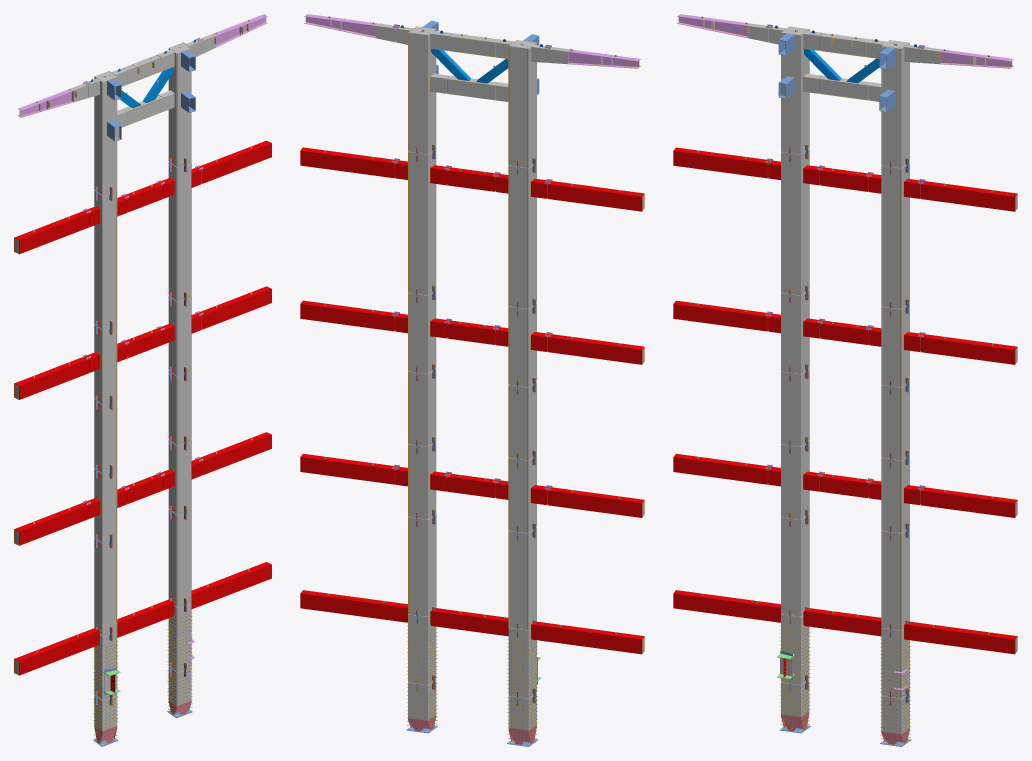
The picture shows the model from 3 angles, left to right: view 1: azimuth 30°, elevation 25°; view 2: azimuth 150°, elevation 25°; view 3: azimuth 330°, elevation 25°; orthographic projection. The views are drawn at different scales.
Parts seen in each view (by area): view 1: product-69e9df6d-0002-17a0-3137-373639333437-body, product-69e9df6d-0002-1a73-3137-373639333437-body, product-69e9df6d-0005-4c9b-3137-373639333437-body, product-69e9df6d-0005-4c47-3137-373639333437-body, product-69e9df6d-0005-1adb-3137-373639333437-body, product-69e9df6d-0005-13fb-3137-373639333437-body, product-69e9df6d-0005-1c04-3137-373639333437-body, product-69e9df6d-0005-13ff-3137-373639333437-body, product-69e9df6d-0005-1af1-3137-373639333437-body, product-69e9df6d-0005-1c1a-3137-373639333437-body, product-69e9df6d-0002-9127-3137-373639333437-body, product-69e9df6d-0002-1909-3137-373639333437-body (+31 smaller); view 2: product-69e9df6d-0002-17b4-3137-373639333437-body, product-69e9df6d-0002-1a87-3137-373639333437-body, product-69e9df6d-0002-181b-3137-373639333437-body, product-69e9df6d-0002-1ae3-3137-373639333437-body, product-69e9df6d-0005-4c9b-3137-373639333437-body, product-69e9df6d-0005-4c47-3137-373639333437-body, product-69e9df6d-0002-913b-3137-373639333437-body, product-69e9df6d-0005-1c04-3137-373639333437-body, product-69e9df6d-0005-13fb-3137-373639333437-body, product-69e9df6d-0005-1adb-3137-373639333437-body, product-69e9df6d-0005-13ff-3137-373639333437-body, product-69e9df6d-0002-191d-3137-373639333437-body (+30 smaller); view 3: product-69e9df6d-0002-1a73-3137-373639333437-body, product-69e9df6d-0002-17a0-3137-373639333437-body, product-69e9df6d-0005-4c47-3137-373639333437-body, product-69e9df6d-0005-4c9b-3137-373639333437-body, product-69e9df6d-0002-1909-3137-373639333437-body, product-69e9df6d-0002-1acf-3137-373639333437-body, product-69e9df6d-0005-1c1a-3137-373639333437-body, product-69e9df6d-0005-1af1-3137-373639333437-body, product-69e9df6d-0005-1c04-3137-373639333437-body, product-69e9df6d-0005-13fb-3137-373639333437-body, product-69e9df6d-0005-13ff-3137-373639333437-body, product-69e9df6d-0005-1adb-3137-373639333437-body (+30 smaller).
Boxes of the visible parts, x1,y1,x2,y2 form: product-69e9df6d-0002-17a0-3137-373639333437-body: (177,162,190,300); product-69e9df6d-0002-1a73-3137-373639333437-body: (103,190,116,329); product-69e9df6d-0005-4c9b-3137-373639333437-body: (14,628,99,675); product-69e9df6d-0005-4c47-3137-373639333437-body: (191,562,271,608); product-69e9df6d-0005-1adb-3137-373639333437-body: (14,211,88,254); product-69e9df6d-0005-13fb-3137-373639333437-body: (14,503,88,545); product-69e9df6d-0005-1c04-3137-373639333437-body: (14,357,88,399); product-69e9df6d-0005-13ff-3137-373639333437-body: (197,432,271,475); product-69e9df6d-0005-1af1-3137-373639333437-body: (197,140,271,183); product-69e9df6d-0005-1c1a-3137-373639333437-body: (197,286,271,329); product-69e9df6d-0002-9127-3137-373639333437-body: (177,509,190,606); product-69e9df6d-0002-1909-3137-373639333437-body: (103,538,116,635); product-69e9df6d-0002-17b4-3137-373639333437-body: (409,152,427,295); product-69e9df6d-0002-1a87-3137-373639333437-body: (509,165,527,308); product-69e9df6d-0002-181b-3137-373639333437-body: (408,32,427,154); product-69e9df6d-0002-1ae3-3137-373639333437-body: (509,46,527,167); product-69e9df6d-0005-4c9b-3137-373639333437-body: (531,621,644,654); product-69e9df6d-0005-4c47-3137-373639333437-body: (300,590,407,622); product-69e9df6d-0002-913b-3137-373639333437-body: (409,517,427,616); product-69e9df6d-0005-1c04-3137-373639333437-body: (547,334,644,364); product-69e9df6d-0005-13fb-3137-373639333437-body: (547,487,644,517); product-69e9df6d-0005-1adb-3137-373639333437-body: (547,181,644,211); product-69e9df6d-0005-13ff-3137-373639333437-body: (300,453,397,484); product-69e9df6d-0002-191d-3137-373639333437-body: (509,530,527,630); product-69e9df6d-0002-1a73-3137-373639333437-body: (781,152,800,295); product-69e9df6d-0002-17a0-3137-373639333437-body: (882,165,900,308); product-69e9df6d-0005-4c47-3137-373639333437-body: (904,621,1017,654); product-69e9df6d-0005-4c9b-3137-373639333437-body: (673,590,780,622); product-69e9df6d-0002-1909-3137-373639333437-body: (781,517,800,616); product-69e9df6d-0002-1acf-3137-373639333437-body: (781,32,800,154); product-69e9df6d-0005-1c1a-3137-373639333437-body: (920,334,1017,364); product-69e9df6d-0005-1af1-3137-373639333437-body: (920,181,1017,211); product-69e9df6d-0005-1c04-3137-373639333437-body: (673,300,770,331); product-69e9df6d-0005-13fb-3137-373639333437-body: (673,453,770,484); product-69e9df6d-0005-13ff-3137-373639333437-body: (920,487,1017,517); product-69e9df6d-0005-1adb-3137-373639333437-body: (673,147,770,178).
Size of the model in its own units: 17.09 by 37.52 by 4.1.
